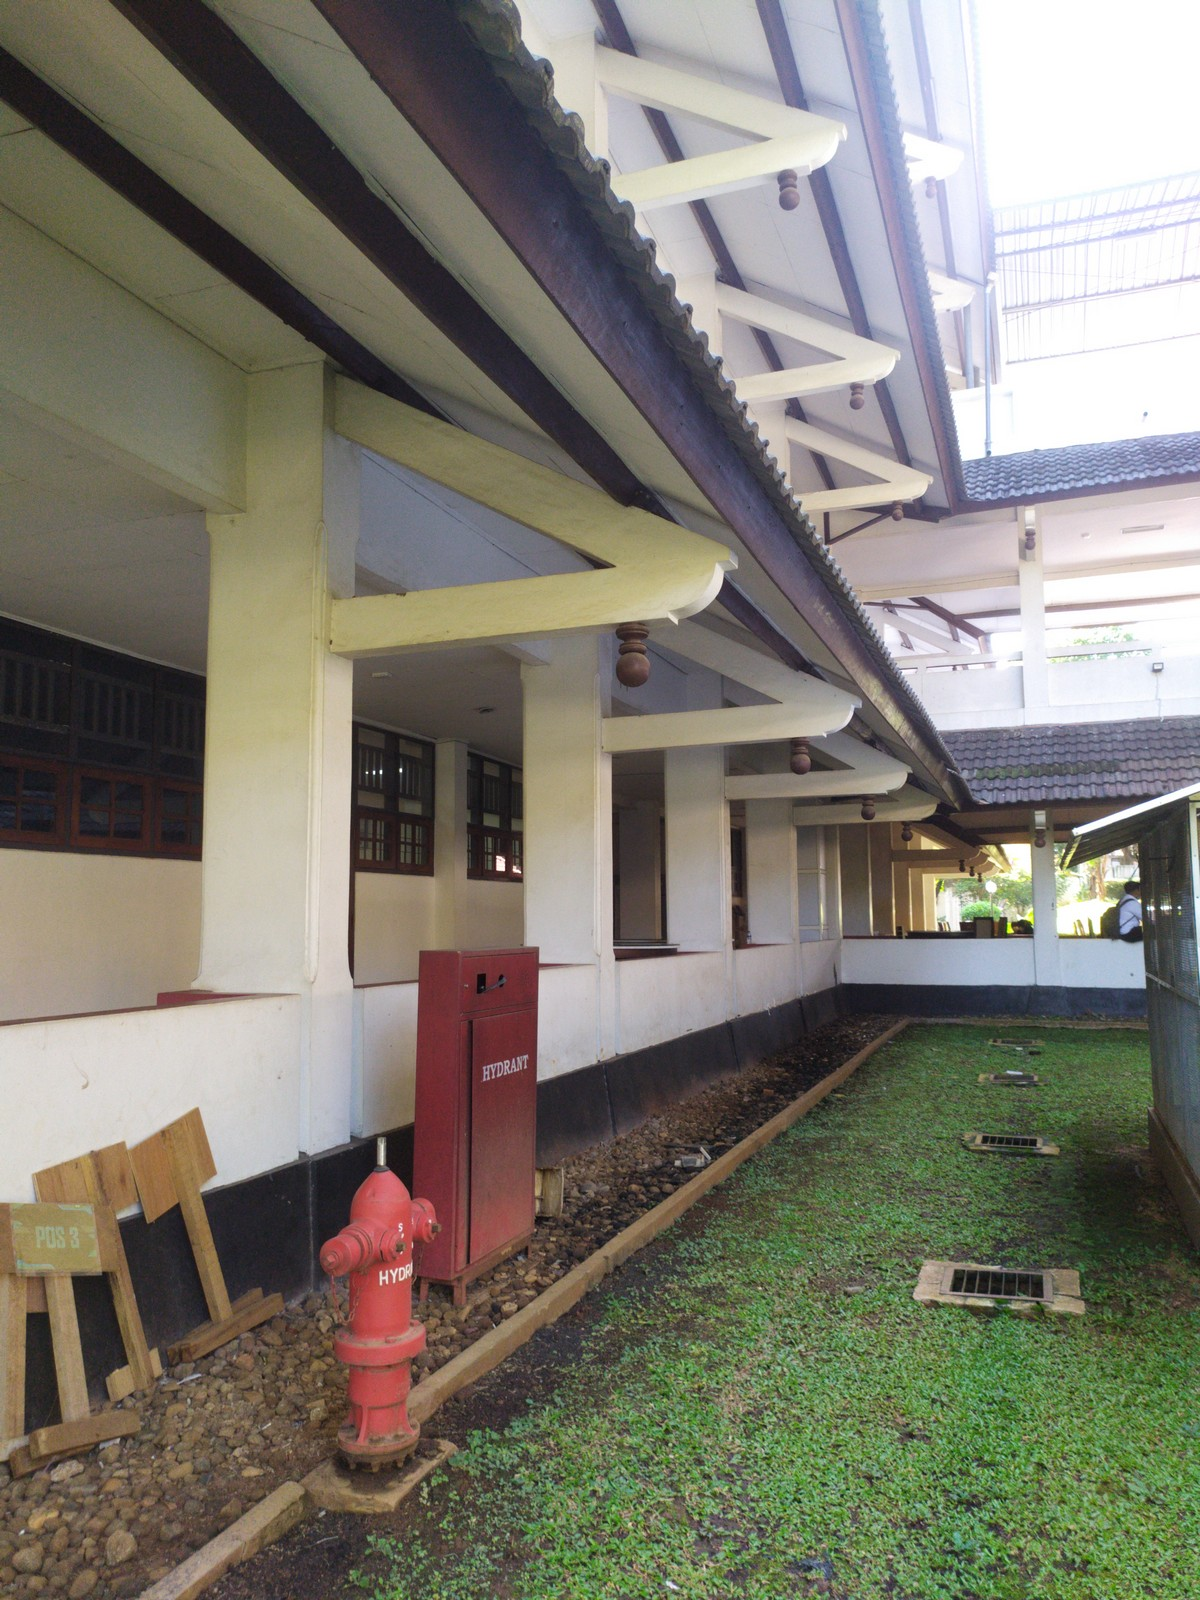concrete beam: (318, 567, 672, 669), (594, 703, 813, 762), (616, 147, 782, 213), (730, 358, 865, 407), (722, 765, 865, 810)
concrete column: (192, 365, 368, 1020), (511, 651, 626, 1005), (661, 753, 744, 974)
